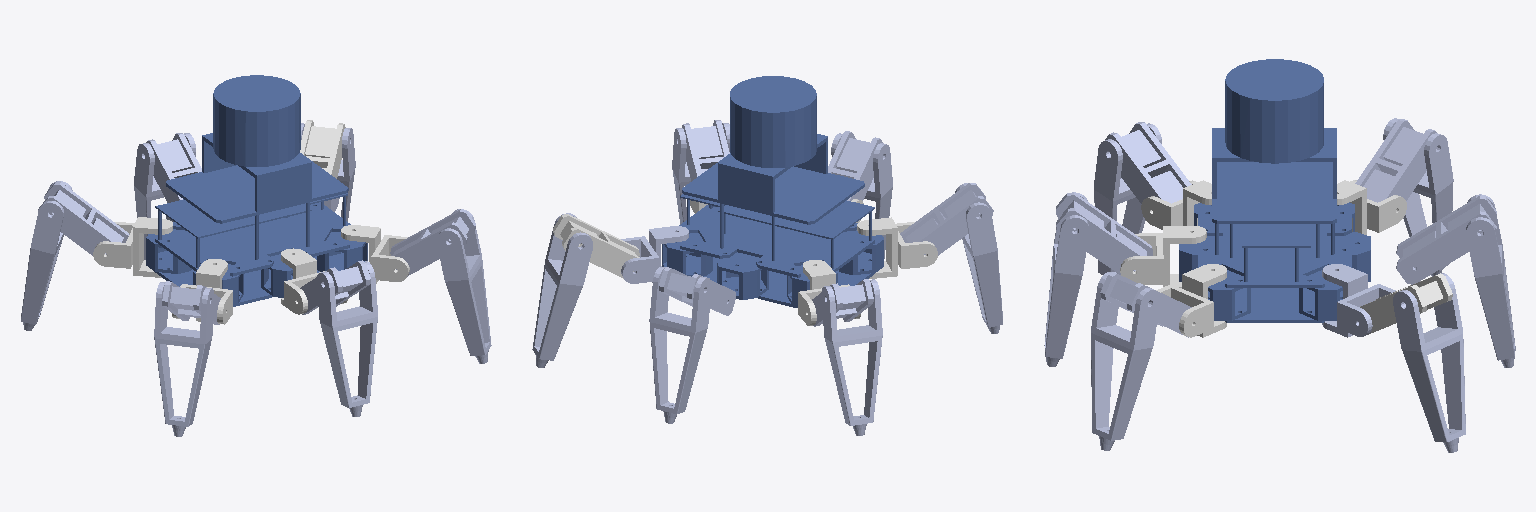
--- What the picture shows (computed from the rendered views, not written in the file) ---
Views: 3 orthographic renders of the robot side by side, from view 1: azimuth 30°, elevation 25°; view 2: azimuth 150°, elevation 25°; view 3: azimuth 270°, elevation 25°.
Robot: hexapod_haibot — 32 links, 31 joints (18 revolute, 13 fixed); root link base_link; default pose: all joints at 0.
Links seen in each view (by area): view 1: base_link, tibia_3, tibia_1, tibia_5, tibia_6, femur_6, coxa_6, femur_1, coxa_1, femur_4, femur_2, tibia_4 (+5 smaller); view 2: base_link, tibia_4, tibia_2, tibia_6, tibia_5, femur_5, coxa_5, femur_2, coxa_2, femur_3, femur_1, femur_4 (+4 smaller); view 3: base_link, tibia_2, tibia_1, tibia_4, tibia_3, femur_4, femur_6, femur_5, femur_3, tibia_6, tibia_5, coxa_2 (+6 smaller).
Boxes of the visible links, x1,y1,x2,y2 form: base_link: (146, 75, 367, 306); tibia_3: (317, 261, 377, 416); tibia_1: (437, 209, 491, 363); tibia_5: (154, 282, 213, 436); tibia_6: (21, 181, 72, 330); femur_6: (38, 182, 129, 255); coxa_6: (93, 217, 172, 277); femur_1: (390, 209, 475, 276); coxa_1: (341, 225, 409, 283); femur_4: (146, 133, 201, 202); femur_2: (300, 120, 345, 178); tibia_4: (134, 133, 195, 259); base_link: (662, 76, 883, 307); tibia_4: (649, 266, 711, 423); tibia_2: (532, 213, 592, 367); tibia_6: (821, 279, 882, 435); tibia_5: (955, 183, 1002, 333); femur_5: (900, 183, 993, 255); coxa_5: (857, 217, 937, 278); femur_2: (553, 214, 639, 278); coxa_2: (621, 226, 688, 283); femur_3: (828, 131, 882, 200); femur_1: (682, 120, 729, 181); femur_4: (659, 267, 735, 315); base_link: (1179, 59, 1370, 322); tibia_2: (1393, 273, 1465, 452); tibia_1: (1091, 272, 1159, 450); tibia_4: (1466, 194, 1515, 367); tibia_3: (1044, 192, 1088, 366); femur_4: (1396, 196, 1496, 284); femur_6: (1355, 119, 1436, 202); femur_5: (1105, 122, 1191, 203); femur_3: (1056, 192, 1152, 274); tibia_6: (1383, 118, 1453, 276); tibia_5: (1094, 123, 1161, 274); coxa_2: (1322, 264, 1395, 337).
Size in the robot's own frame: 0.453 by 0.4894 by 0.3304 metres.
18 mesh visuals loaded from 24 distinct referenced files (18 binary STL); not drawn: 6 (reference not matched to a file when rendering).

URDF robot description (hexapod_haibot):
<?xml version="1.0"?>
<!-- This URDF was automatically created by SolidWorks to URDF Exporter! Originally created by Stephen Brawner ([email redacted]) 
     Commit Version: 1.6.0-4-g7f85cfe  Build Version: 1.6.7995.38578
     For more information, please see http://wiki.ros.org/sw_urdf_exporter -->
<robot name="hexapod_haibot" xmlns:xacro="http://www.ros.org/wiki/xacro">

  <!-- MATERIAL PROPERTIES -->
  <gazebo reference="base_link">
    <material>Gazebo/DarkGrey</material>
  </gazebo>
  <gazebo reference="coxa_1">
    <material>Gazebo/FlatBlack</material>
  </gazebo>
  <gazebo reference="coxa_2">
    <material>Gazebo/FlatBlack</material>
  </gazebo>
  <gazebo reference="coxa_3">
    <material>Gazebo/FlatBlack</material>
  </gazebo>
  <gazebo reference="coxa_4">
    <material>Gazebo/FlatBlack</material>
  </gazebo>
  <gazebo reference="coxa_5">
    <material>Gazebo/FlatBlack</material>
  </gazebo>
  <gazebo reference="coxa_6">
    <material>Gazebo/FlatBlack</material>
  </gazebo>
  <gazebo reference="femur_1">
    <material>Gazebo/TurquoiseGlowOutline</material>
  </gazebo>
  <gazebo reference="femur_2">
    <material>Gazebo/TurquoiseGlowOutline</material>
  </gazebo>
  <gazebo reference="femur_3">
    <material>Gazebo/TurquoiseGlowOutline</material>
  </gazebo>
  <gazebo reference="femur_4">
    <material>Gazebo/TurquoiseGlowOutline</material>
  </gazebo>
  <gazebo reference="femur_5">
    <material>Gazebo/TurquoiseGlowOutline</material>
  </gazebo>
  <gazebo reference="femur_6">
    <material>Gazebo/TurquoiseGlowOutline</material>
  </gazebo>
  <gazebo reference="tibia_1">
    <material>Gazebo/FlatBlack</material>
  </gazebo>
  <gazebo reference="tibia_2">
    <material>Gazebo/FlatBlack</material>
  </gazebo>
  <gazebo reference="tibia_3">
    <material>Gazebo/FlatBlack</material>
  </gazebo>
  <gazebo reference="tibia_4">
    <material>Gazebo/FlatBlack</material>
  </gazebo>
  <gazebo reference="tibia_5">
    <material>Gazebo/FlatBlack</material>
  </gazebo>
  <gazebo reference="tibia_6">
    <material>Gazebo/FlatBlack</material>
  </gazebo>

  <!-- ############################################################################################################### -->
  <!-- ROBOT BASE -->
  <link name="base_link">
    <inertial>
      <origin
        xyz="-0.000235954357342191 7.54327648189342E-06 0.1227178717292"
        rpy="0 0 0" />
      <mass
        value="1.21169978454244" />
      <inertia
        ixx="0.00915831944870312"
        ixy="-7.10521119638147E-07"
        ixz="-8.84150170670591E-06"
        iyy="0.00979644782668004"
        iyz="1.97028180144695E-07"
        izz="0.00428132557153675" />
    </inertial>
    <visual>
      <origin
        xyz="0 0 0"
        rpy="0 0 0" />
      <geometry>
        <mesh
          filename="package://hexapod_haibot/meshes/base_link.STL" />
      </geometry>
      <material
        name="">
        <color
          rgba="0.4 0.5 0.7 1" />
      </material>
    </visual>
    <collision>
      <origin
        xyz="0 0 0"
        rpy="0 0 0" />
      <geometry>
        <mesh
          filename="package://hexapod_haibot/meshes/base_link.STL" />
      </geometry>
    </collision>
  </link>
  
  <!-- ############################################################################################################### -->
  <!-- LEG 1 -->
  <link name="coxa_1">
    <inertial>
      <origin
        xyz="0.0299971745393872 2.6370965719516E-06 0.022"
        rpy="0 0 0" />
      <mass
        value="0.0551210467328803" />
      <inertia
        ixx="3.53282132522675E-05"
        ixy="-4.36119640905737E-09"
        ixz="-1.19310926543601E-21"
        iyy="3.83050011945573E-05"
        iyz="-2.25289428125014E-21"
        izz="3.83009260758546E-05" />
    </inertial>
    <visual>
      <origin
        xyz="0 0 0"
        rpy="0 0 0" />
      <geometry>
        <mesh
          filename="package://hexapod_haibot/meshes/coxa_1.STL" />
      </geometry>
      <material
        name="">
        <color
          rgba="0.933333333333333 0.933333333333333 0.933333333333333 1" />
      </material>
    </visual>
    <collision>
      <origin
        xyz="0 0 0"
        rpy="0 0 0" />
      <geometry>
        <mesh
          filename="package://hexapod_haibot/meshes/coxa_1.STL" />
      </geometry>
    </collision>
  </link>

  <joint name="coxa_1_joint" type="revolute">
    <origin
      xyz="0.094347 -0.064347 0"
      rpy="0 0 -0.78008" />
    <parent
      link="base_link" />
    <child
      link="coxa_1" />
    <axis
      xyz="0 0 1" />
    <limit
      lower="-1.5708"
      upper="1.5708"
      effort="3"
      velocity="0.262" />
  </joint>

  <transmission name="coxa_transmission_1">
    <type>transmission_interface/SimpleTransmission</type>
    <joint name="coxa_1_joint">
      <hardwareInterface>hardware_interface/EffortJointInterface</hardwareInterface>
    </joint>
    <actuator name="coxa_motor_1">
      <hardwareInterface>hardware_interface/EffortJointInterface</hardwareInterface>
      <mechanicalReduction>1</mechanicalReduction>
    </actuator>
  </transmission>

  <link name="femur_1">
    <inertial>
      <origin
        xyz="0.0390038961416134 2.77555756156289E-17 -0.000127300882164495"
        rpy="0 0 0" />
      <mass
        value="0.101060221285622" />
      <inertia
        ixx="2.70779732387671E-05"
        ixy="-8.55503276726843E-20"
        ixz="7.62790212768512E-09"
        iyy="0.000113343849974385"
        iyz="2.31687189926496E-20"
        izz="9.72264920104687E-05" />
    </inertial>
    <visual>
      <origin
        xyz="0 0 0"
        rpy="0 0 0" />
      <geometry>
        <mesh
          filename="package://hexapod_haibot/meshes/femur_1.STL" />
      </geometry>
      <material
        name="">
        <color
          rgba="0.792156862745098 0.819607843137255 0.933333333333333 1" />
      </material>
    </visual>
    <collision>
      <origin
        xyz="0 0 0"
        rpy="0 0 0" />
      <geometry>
        <mesh
          filename="package://hexapod_haibot/meshes/femur_1.STL" />
      </geometry>
    </collision>
  </link>

  <joint name="femur_1_joint" type="revolute">
    <origin
      xyz="0.06 0 0.022"
      rpy="1.5708 -0.60765 0" />
    <parent
      link="coxa_1" />
    <child
      link="femur_1" />
    <axis
      xyz="0 0 1" />
    <limit
      lower="-1.5708"
      upper="1.5708"
      effort="3"
      velocity="0.262" />
  </joint>

  <transmission name="femur_transmission_1">
    <type>transmission_interface/SimpleTransmission</type>
    <joint name="femur_1_joint">
      <hardwareInterface>hardware_interface/EffortJointInterface</hardwareInterface>
    </joint>
    <actuator name="femur_motor_1">
      <hardwareInterface>hardware_interface/EffortJointInterface</hardwareInterface>
      <mechanicalReduction>1</mechanicalReduction>
    </actuator>
  </transmission>

  <link name="tibia_1">
    <inertial>
      <origin
        xyz="0.0647793877370392 1.67357076086283E-07 4.1140457842509E-08"
        rpy="0 0 0" />
      <mass
        value="0.079753578257712" />
      <inertia
        ixx="4.29473134297159E-05"
        ixy="-5.47973506938731E-10"
        ixz="1.27952682202404E-10"
        iyy="0.000201360752347867"
        iyz="-5.78595613282609E-11"
        izz="0.000168424442883887" />
    </inertial>
    <visual>
      <origin
        xyz="0 0 0"
        rpy="0 0 0" />
      <geometry>
        <mesh
          filename="package://hexapod_haibot/meshes/tibia_1.STL" />
      </geometry>
      <material
        name="">
        <color
          rgba="0.792156862745098 0.819607843137255 0.933333333333333 1" />
      </material>
    </visual>
    <collision>
      <origin
        xyz="0 0 0"
        rpy="0 0 0" />
      <geometry>
        <mesh
          filename="package://hexapod_haibot/meshes/tibia_1.STL" />
      </geometry>
    </collision>
  </link>

  <joint name="tibia_1_joint" type="revolute">
    <origin
      xyz="0.078299 0 0"
      rpy="0 0 -1.9765" />
    <parent
      link="femur_1" />
    <child
      link="tibia_1" />
    <axis
      xyz="0 0 1" />
    <limit
      lower="-1.5708"
      upper="1.5708"
      effort="3"
      velocity="0.262" />
  </joint>

  <transmission name="tibia_transmission_1">
    <type>transmission_interface/SimpleTransmission</type>
    <joint name="tibia_1_joint">
      <hardwareInterface>hardware_interface/EffortJointInterface</hardwareInterface>
    </joint>
    <actuator name="tibia_motor_1">
      <hardwareInterface>hardware_interface/EffortJointInterface</hardwareInterface>
      <mechanicalReduction>1</mechanicalReduction>
    </actuator>
  </transmission>

  <!-- ############################################################################################################### -->
  <!-- LEG 3 -->
  <link name="coxa_3">
    <inertial>
      <origin
        xyz="0.0299971745393872 2.63709657192558E-06 0.022"
        rpy="0 0 0" />
      <mass
        value="0.0551210467328803" />
      <inertia
        ixx="3.53282132522675E-05"
        ixy="-4.36119640902516E-09"
        ixz="2.69730911821053E-24"
        iyy="3.83050011945573E-05"
        iyz="2.06777561367272E-22"
        izz="3.83009260758546E-05" />
    </inertial>
    <visual>
      <origin
        xyz="0 0 0"
        rpy="0 0 0" />
      <geometry>
        <mesh
          filename="package://hexapod_haibot/meshes/coxa_3.STL" />
      </geometry>
      <material
        name="">
        <color
          rgba="0.933333333333333 0.933333333333333 0.933333333333333 1" />
      </material>
    </visual>
    <collision>
      <origin
        xyz="0 0 0"
        rpy="0 0 0" />
      <geometry>
        <mesh
          filename="package://hexapod_haibot/meshes/coxa_3.STL" />
      </geometry>
    </collision>
  </link>

  <joint name="coxa_3_joint" type="revolute">
    <origin
      xyz="0 -0.086 0"
      rpy="0 0 -1.5578" />
    <parent
      link="base_link" />
    <child
      link="coxa_3" />
    <axis
      xyz="0 0 1" />
    <limit
      lower="-1.5708"
      upper="1.5708"
      effort="3"
      velocity="0.262" />
  </joint>

  <transmission name="coxa_transmission_3">
    <type>transmission_interface/SimpleTransmission</type>
    <joint name="coxa_3_joint">
      <hardwareInterface>hardware_interface/EffortJointInterface</hardwareInterface>
    </joint>
    <actuator name="coxa_motor_3">
      <hardwareInterface>hardware_interface/EffortJointInterface</hardwareInterface>
      <mechanicalReduction>1</mechanicalReduction>
    </actuator>
  </transmission>

  <link name="femur_3">
    <inertial>
      <origin
        xyz="-0.0389961038583868 2.91433543964104E-16 -0.00012730088216462"
        rpy="0 0 0" />
      <mass
        value="0.101060221285622" />
      <inertia
        ixx="2.70779732387671E-05"
        ixy="-6.09863722023096E-20"
        ixz="7.62790212764231E-09"
        iyy="0.000113343849974385"
        iyz="-3.04459532260779E-21"
        izz="9.72264920104688E-05" />
    </inertial>
    <visual>
      <origin
        xyz="0 0 0"
        rpy="0 0 0" />
      <geometry>
        <mesh
          filename="package://hexapod_haibot/meshes/femur_3.STL" />
      </geometry>
      <material
        name="">
        <color
          rgba="0.792156862745098 0.819607843137255 0.933333333333333 1" />
      </material>
    </visual>
    <collision>
      <origin
        xyz="0 0 0"
        rpy="0 0 0" />
      <geometry>
        <mesh
          filename="package://hexapod_haibot/meshes/femur_3.STL" />
      </geometry>
    </collision>
  </link>

  <joint name="femur_3_joint" type="revolute">
    <origin
      xyz="0.06 0 0.022"
      rpy="1.5708 0.65437 -3.1416" />
    <parent
      link="coxa_3" />
    <child
      link="femur_3" />
    <axis
      xyz="0 0 1" />
    <limit
      lower="-1.5708"
      upper="1.5708"
      effort="3"
      velocity="0.262" />
  </joint>

  <transmission name="femur_transmission_3">
    <type>transmission_interface/SimpleTransmission</type>
    <joint name="femur_3_joint">
      <hardwareInterface>hardware_interface/EffortJointInterface</hardwareInterface>
    </joint>
    <actuator name="femur_motor_3">
      <hardwareInterface>hardware_interface/EffortJointInterface</hardwareInterface>
      <mechanicalReduction>1</mechanicalReduction>
    </actuator>
  </transmission>

  <link name="tibia_3">
    <inertial>
      <origin
        xyz="0.0647793402516186 1.63043285095199E-07 0.000500038719800597"
        rpy="0 0 0" />
      <mass
        value="0.0797534321360176" />
      <inertia
        ixx="4.29472906774755E-05"
        ixy="-4.35624446715095E-10"
        ixz="1.25207647802794E-10"
        iyy="0.000201360533986022"
        iyz="-6.29881027872907E-11"
        izz="0.000168424318950458" />
    </inertial>
    <visual>
      <origin
        xyz="0 0 0"
        rpy="0 0 0" />
      <geometry>
        <mesh
          filename="package://hexapod_haibot/meshes/tibia_3.STL" />
      </geometry>
      <material
        name="">
        <color
          rgba="0.792156862745098 0.819607843137255 0.933333333333333 1" />
      </material>
    </visual>
    <collision>
      <origin
        xyz="0 0 0"
        rpy="0 0 0" />
      <geometry>
        <mesh
          filename="package://hexapod_haibot/meshes/tibia_3.STL" />
      </geometry>
    </collision>
  </link>

  <joint name="tibia_3_joint" type="revolute">
    <origin
      xyz="-0.078 0 0"
      rpy="3.1416 0 -1.0584" />
    <parent
      link="femur_3" />
    <child
      link="tibia_3" />
    <axis
      xyz="0 0 1" />
    <limit
      lower="-1.5708"
      upper="1.5708"
      effort="3"
      velocity="0.262" />
  </joint>

  <transmission name="tibia_transmission_3">
    <type>transmission_interface/SimpleTransmission</type>
    <joint name="tibia_3_joint">
      <hardwareInterface>hardware_interface/EffortJointInterface</hardwareInterface>
    </joint>
    <actuator name="tibia_motor_3">
      <hardwareInterface>hardware_interface/EffortJointInterface</hardwareInterface>
      <mechanicalReduction>1</mechanicalReduction>
    </actuator>
  </transmission>

  <!-- ############################################################################################################### -->
  <!-- LEG 5 -->
  <link name="coxa_5">
    <inertial>
      <origin
        xyz="0.0299971745393872 2.63709657193079E-06 0.022"
        rpy="0 0 0" />
      <mass
        value="0.0551210467328803" />
      <inertia
        ixx="3.53282132522675E-05"
        ixy="-4.36119640903535E-09"
        ixz="1.80769437480616E-21"
        iyy="3.83050011945573E-05"
        iyz="-4.17794109547708E-22"
        izz="3.83009260758546E-05" />
    </inertial>
    <visual>
      <origin
        xyz="0 0 0"
        rpy="0 0 0" />
      <geometry>
        <mesh
          filename="package://hexapod_haibot/meshes/coxa_5.STL" />
      </geometry>
      <material
        name="">
        <color
          rgba="0.933333333333333 0.933333333333333 0.933333333333333 1" />
      </material>
    </visual>
    <collision>
      <origin
        xyz="0 0 0"
        rpy="0 0 0" />
      <geometry>
        <mesh
          filename="package://hexapod_haibot/meshes/coxa_5.STL" />
      </geometry>
    </collision>
  </link>

  <joint name="coxa_5_joint" type="revolute">
    <origin
      xyz="-0.094347 -0.064347 0"
      rpy="0 0 -2.382" />
    <parent
      link="base_link" />
    <child
      link="coxa_5" />
    <axis
      xyz="0 0 1" />
    <limit
      lower="-1.5708"
      upper="1.5708"
      effort="3"
      velocity="0.262" />
  </joint>

  <transmission name="coxa_transmission_5">
    <type>transmission_interface/SimpleTransmission</type>
    <joint name="coxa_5_joint">
      <hardwareInterface>hardware_interface/EffortJointInterface</hardwareInterface>
    </joint>
    <actuator name="coxa_motor_5">
      <hardwareInterface>hardware_interface/EffortJointInterface</hardwareInterface>
      <mechanicalReduction>1</mechanicalReduction>
    </actuator>
  </transmission>

  <link name="femur_5">
    <inertial>
      <origin
        xyz="-0.0389961038583868 2.63677968348475E-16 0.000372699117835631"
        rpy="0 0 0" />
      <mass
        value="0.101060221285622" />
      <inertia
        ixx="2.70779732387672E-05"
        ixy="-3.3881317890172E-20"
        ixz="7.62790212768477E-09"
        iyy="0.000113343849974385"
        iyz="-1.03828633151966E-20"
        izz="9.72264920104688E-05" />
    </inertial>
    <visual>
      <origin
        xyz="0 0 0"
        rpy="0 0 0" />
      <geometry>
        <mesh
          filename="package://hexapod_haibot/meshes/femur_5.STL" />
      </geometry>
      <material
        name="">
        <color
          rgba="0.792156862745098 0.819607843137255 0.933333333333333 1" />
      </material>
    </visual>
    <collision>
      <origin
        xyz="0 0 0"
        rpy="0 0 0" />
      <geometry>
        <mesh
          filename="package://hexapod_haibot/meshes/femur_5.STL" />
      </geometry>
    </collision>
  </link>

  <joint name="femur_5_joint" type="revolute">
    <origin
      xyz="0.06 0 0.022"
      rpy="1.5707963267949 0.593256092891378 -3.14159265358979" />
    <parent
      link="coxa_5" />
    <child
      link="femur_5" />
    <axis
      xyz="0 0 1" />
    <limit
      lower="-1.5708"
      upper="1.5708"
      effort="3"
      velocity="0.262" />
  </joint>

  <transmission name="femur_transmission_5">
    <type>transmission_interface/SimpleTransmission</type>
    <joint name="femur_5_joint">
      <hardwareInterface>hardware_interface/EffortJointInterface</hardwareInterface>
    </joint>
    <actuator name="femur_motor_5">
      <hardwareInterface>hardware_interface/EffortJointInterface</hardwareInterface>
      <mechanicalReduction>1</mechanicalReduction>
    </actuator>
  </transmission>

  <link name="tibia_5">
    <inertial>
      <origin
        xyz="0.064779381457328 1.66896180764375E-07 3.80265846762484E-08"
        rpy="0 0 0" />
      <mass
        value="0.0797535514364952" />
      <inertia
        ixx="4.29473122557609E-05"
        ixy="-5.2039318251951E-10"
        ixz="1.29346661267689E-10"
        iyy="0.000201360728465127"
        iyz="-5.8985320310437E-11"
        izz="0.000168424442624692" />
    </inertial>
    <visual>
      <origin
        xyz="0 0 0"
        rpy="0 0 0" />
      <geometry>
        <mesh
          filename="package://hexapod_haibot/meshes/tibia_5.STL" />
      </geometry>
      <material
        name="">
        <color
          rgba="0.792156862745098 0.819607843137255 0.933333333333333 1" />
      </material>
    </visual>
    <collision>
      <origin
        xyz="0 0 0"
        rpy="0 0 0" />
      <geometry>
        <mesh
          filename="package://hexapod_haibot/meshes/tibia_5.STL" />
      </geometry>
    </collision>
  </link>

  <joint name="tibia_5_joint" type="revolute">
    <origin
      xyz="-0.0779999999999999 0 0"
      rpy="-3.14159265358979 0 -1.13530201040703" />
    <parent
      link="femur_5" />
    <child
      link="tibia_5" />
    <axis
      xyz="0 0 1" />
    <limit
      lower="-1.5708"
      upper="1.5708"
      effort="3"
      velocity="0.262" />
  </joint>

  <transmission name="tibia_transmission_5">
    <type>transmission_interface/SimpleTransmission</type>
    <joint name="tibia_5_joint">
      <hardwareInterface>hardware_interface/EffortJointInterface</hardwareInterface>
    </joint>
    <actuator name="tibia_motor_5">
      <hardwareInterface>hardware_interface/EffortJointInterface</hardwareInterface>
      <mechanicalReduction>1</mechanicalReduction>
    </actuator>
  </transmission>

  <!-- ############################################################################################################### --> 
  <!-- LEG 2 -->
  <link name="coxa_2">
    <inertial>
      <origin
        xyz="0.0299971745393872 2.63709657193772E-06 0.022"
        rpy="0 0 0" />
      <mass
        value="0.0551210467328803" />
      <inertia
        ixx="3.53282132522675E-05"
        ixy="-4.36119640902688E-09"
        ixz="8.22308446706767E-21"
        iyy="3.83050011945573E-05"
        iyz="-5.3717856970772E-21"
        izz="3.83009260758546E-05" />
    </inertial>
    <visual>
      <origin
        xyz="0 0 0"
        rpy="0 0 0" />
      <geometry>
        <mesh
          filename="package://hexapod_haibot/meshes/coxa_2.STL" />
      </geometry>
      <material
        name="">
        <color
          rgba="0.792156862745098 0.819607843137255 0.933333333333333 1" />
      </material>
    </visual>
    <collision>
      <origin
        xyz="0 0 0"
        rpy="0 0 0" />
      <geometry>
        <mesh
          filename="package://hexapod_haibot/meshes/coxa_2.STL" />
      </geometry>
    </collision>
  </link>

  <joint name="coxa_2_joint" type="revolute">
    <origin
      xyz="0.094347 0.064347 0"
      rpy="0 0 0.80623" />
    <parent
      link="base_link" />
    <child
      link="coxa_2" />
    <axis
      xyz="0 0 1" />
    <limit
      lower="-1.5708"
      upper="1.5708"
      effort="3"
      velocity="0.262" />
  </joint>

  <transmission name="coxa_transmission_2">
    <type>transmission_interface/SimpleTransmission</type>
    <joint name="coxa_2_joint">
      <hardwareInterface>hardware_interface/EffortJointInterface</hardwareInterface>
    </joint>
    <actuator name="coxa_motor_2">
      <hardwareInterface>hardware_interface/EffortJointInterface</hardwareInterface>
      <mechanicalReduction>1</mechanicalReduction>
    </actuator>
  </transmission>

  <link name="femur_2">
    <inertial>
      <origin
        xyz="0.0390038961416136 2.08166817117217E-16 0.000372699117835697"
        rpy="0 0 0" />
      <mass
        value="0.101060221285622" />
      <inertia
        ixx="2.70779732387671E-05"
        ixy="2.5410988417629E-20"
        ixz="7.62790212764919E-09"
        iyy="0.000113343849974385"
        iyz="-8.02520653875577E-21"
        izz="9.72264920104688E-05" />
    </inertial>
    <visual>
      <origin
        xyz="0 0 0"
        rpy="0 0 0" />
      <geometry>
        <mesh
          filename="package://hexapod_haibot/meshes/femur_2.STL" />
      </geometry>
      <material
        name="">
        <color
          rgba="0.933333333333333 0.933333333333333 0.933333333333333 1" />
      </material>
    </visual>
    <collision>
      <origin
        xyz="0 0 0"
        rpy="0 0 0" />
      <geometry>
        <mesh
          filename="package://hexapod_haibot/meshes/femur_2.STL" />
      </geometry>
    </collision>
  </link>

  <joint name="femur_2_joint" type="revolute">
    <origin
      xyz="0.06 0 0.022"
      rpy="-1.5707963267949 -0.570757388235316 0" />
    <parent
      link="coxa_2" />
    <child
      link="femur_2" />
    <axis
      xyz="0 0 1" />
    <limit
      lower="-1.5708"
      upper="1.5708"
      effort="3"
      velocity="0.262" />
  </joint>

  <transmission name="femur_transmission_2">
    <type>transmission_interface/SimpleTransmission</type>
    <joint name="femur_2_joint">
      <hardwareInterface>hardware_interface/EffortJointInterface</hardwareInterface>
    </joint>
    <actuator name="femur_motor_2">
      <hardwareInterface>hardware_interface/EffortJointInterface</hardwareInterface>
      <mechanicalReduction>1</mechanicalReduction>
    </actuator>
  </transmission>

  <link name="tibia_2">
    <inertial>
      <origin
        xyz="0.064779231371056 1.52274239939576E-07 2.12012769632008E-08"
        rpy="0 0 0" />
      <mass
        value="0.0797532028820055" />
      <inertia
        ixx="4.29472740175955E-05"
        ixy="-2.26598724123957E-10"
        ixz="1.75883824016018E-10"
        iyy="0.000201359999099"
        iyz="-5.69751259621584E-11"
        izz="0.00016842391204068" />
    </inertial>
    <visual>
      <origin
        xyz="0 0 0"
        rpy="0 0 0" />
      <geometry>
        <mesh
          filename="package://hexapod_haibot/meshes/tibia_2.STL" />
      </geometry>
      <material
        name="">
        <color
          rgba="0.792156862745098 0.819607843137255 0.933333333333333 1" />
      </material>
    </visual>
    <collision>
      <origin
        xyz="0 0 0"
        rpy="0 0 0" />
      <geometry>
        <mesh
          filename="package://hexapod_haibot/meshes/tibia_2.STL" />
      </geometry>
    </collision>
  </link>

  <joint name="tibia_2_joint" type="revolute">
    <origin
      xyz="0.0782991733331755 0 0"
      rpy="0 0 1.89648504438712" />
    <parent
      link="femur_2" />
    <child
      link="tibia_2" />
    <axis
      xyz="0 0 1" />
    <limit
      lower="-1.5708"
      upper="1.5708"
      effort="3"
      velocity="0.262" />
  </joint>

  <transmission name="tibia_transmission_2">
    <type>transmission_interface/SimpleTransmission</type>
    <joint name="tibia_2_joint">
      <hardwareInterface>hardware_interface/EffortJointInterface</hardwareInterface>
    </joint>
    <actuator name="tibia_motor_2">
      <hardwareInterface>hardware_interface/EffortJointInterface</hardwareInterface>
      <mechanicalReduction>1</mechanicalReduction>
    </actuator>
  </transmission>

  <!-- ############################################################################################################### -->
  <!-- LEG 4 -->
  <link name="coxa_4">
    <inertial>
      <origin
        xyz="0.0299971745393872 2.63709657194119E-06 0.022"
        rpy="0 0 0" />
      <mass
        value="0.0551210467328803" />
      <inertia
        ixx="3.53282132522675E-05"
        ixy="-4.36119640900794E-09"
        ixz="-4.47192022000883E-21"
        iyy="3.83050011945573E-05"
        iyz="5.74775956109057E-22"
        izz="3.83009260758547E-05" />
    </inertial>
    <visual>
      <origin
        xyz="0 0 0"
        rpy="0 0 0" />
      <geometry>
        <mesh
          filename="package://hexapod_haibot/meshes/coxa_4.STL" />
      </geometry>
      <material
        name="">
        <color
          rgba="0.933333333333333 0.933333333333333 0.933333333333333 1" />
      </material>
    </visual>
    <collision>
      <origin
        xyz="0 0 0"
        rpy="0 0 0" />
      <geometry>
        <mesh
          filename="package://hexapod_haibot/meshes/coxa_4.STL" />
      </geometry>
    </collision>
  </link>

  <joint name="coxa_4_joint" type="revolute">
    <origin
      xyz="0 0.086 0"
      rpy="0 0 1.5689" />
    <parent
      link="base_link" />
    <child
      link="coxa_4" />
    <axis
      xyz="0 0 1" />
    <limit
      lower="-1.5708"
      upper="1.5708"
      effort="3"
      velocity="0.262" />
  </joint>

  <transmission name="coxa_transmission_4">
    <type>transmission_interface/SimpleTransmission</type>
    <joint name="coxa_4_joint">
      <hardwareInterface>hardware_interface/EffortJointInterface</hardwareInterface>
    </joint>
    <actuator name="coxa_motor_4">
      <hardwareInterface>hardware_interface/EffortJointInterface</hardwareInterface>
      <mechanicalReduction>1</mechanicalReduction>
    </actuator>
  </transmission>

  <link name="femur_4">
    <inertial>
      <origin
        xyz="-0.0389961038583868 6.93889390390723E-18 0.000372699117835451"
        rpy="0 0 0" />
      <mass
        value="0.101060221285622" />
      <inertia
        ixx="2.70779732387671E-05"
        ixy="-7.19978005166155E-20"
        ixz="7.62790212765141E-09"
        iyy="0.000113343849974385"
        iyz="-3.48342269862745E-22"
        izz="9.72264920104686E-05" />
    </inertial>
    <visual>
      <origin
        xyz="0 0 0"
        rpy="0 0 0" />
      <geometry>
        <mesh
          filename="package://hexapod_haibot/meshes/femur_4.STL" />
      </geometry>
      <material
        name="">
        <color
          rgba="0.792156862745098 0.819607843137255 0.933333333333333 1" />
      </material>
    </visual>
    <collision>
      <origin
        xyz="0 0 0"
        rpy="0 0 0" />
      <geometry>
        <mesh
          filename="package://hexapod_haibot/meshes/femur_4.STL" />
      </geometry>
    </collision>
  </link>

  <joint name="femur_4_joint" type="revolute">
    <origin
      xyz="0.06 0 0.022"
      rpy="1.5707963267949 0.5837559928844 -3.14159265358979" />
    <parent
      link="coxa_4" />
    <child
      link="femur_4" />
    <axis
      xyz="0 0 1" />
    <limit
      lower="-1.5708"
      upper="1.5708"
      effort="3"
      velocity="0.262" />
  </joint>

  <transmission name="femur_transmission_4">
    <type>transmission_interface/SimpleTransmission</type>
    <joint name="femur_4_joint">
      <hardwareInterface>hardware_interface/EffortJointInterface</hardwareInterface>
    </joint>
    <actuator name="femur_motor_4">
      <hardwareInterface>hardware_interface/EffortJointInterface</hardwareInterface>
      <mechanicalReduction>1</mechanicalReduction>
    </actuator>
  </transmission>

  <link name="tibia_4">
    <inertial>
      <origin
        xyz="0.0647793120469972 1.61127922004844E-07 3.42567992661711E-08"
        rpy="0 0 0" />
      <mass
        value="0.07975336132891" />
      <inertia
        ixx="4.29472859486317E-05"
        ixy="-3.70486815918369E-10"
        ixz="1.35541564555372E-10"
        iyy="0.000201360398778229"
        iyz="-6.22672928706743E-11"
        izz="0.000168424231028227" />
    </inertial>
    <visual>
      <origin
        xyz="0 0 0"
        rpy="0 0 0" />
      <geometry>
        <mesh
          filename="package://hexapod_haibot/meshes/tibia_4.STL" />
      </geometry>
      <material
        name="">
        <color
          rgba="0.792156862745098 0.819607843137255 0.933333333333333 1" />
      </material>
    </visual>
    <collision>
      <origin
        xyz="0 0 0"
        rpy="0 0 0" />
      <geometry>
        <mesh
          filename="package://hexapod_haibot/meshes/tibia_4.STL" />
      </geometry>
    </collision>
  </link>

  <joint name="tibia_4_joint" type="revolute">
    <origin
      xyz="-0.0811639254473974 0 0"
      rpy="0 0 -1.16162210028502" />
    <parent
      link="femur_4" />
    <child
      link="tibia_4" />
    <axis
      xyz="0 0 1" />
    <limit
      lower="-1.5708"
      upper="1.5708"
      effort="3"
      velocity="0.262" />
  </joint>

  <transmission name="tibia_transmission_4">
    <type>transmission_interface/SimpleTransmission</type>
    <joint name="tibia_4_joint">
      <hardwareInterface>hardware_interface/EffortJointInterface</hardwareInterface>
    </joint>
    <actuator name="tibia_motor_4">
      <hardwareInterface>hardware_interface/EffortJointInterface</hardwareInterface>
      <mechanicalReduction>1</mechanicalReduction>
    </actuator>
  </transmission>

  <!-- ############################################################################################################### -->
  <!-- LEG 6 -->
  <link name="coxa_6">
    <inertial>
      <origin
        xyz="0.0299971745393872 2.63709657190303E-06 0.022"
        rpy="0 0 0" />
      <mass
        value="0.0551210467328803" />
      <inertia
        ixx="3.53282132522675E-05"
        ixy="-4.36119640899131E-09"
        ixz="-7.71993193239305E-22"
        iyy="3.83050011945573E-05"
        iyz="-1.78962730252462E-21"
        izz="3.83009260758547E-05" />
    </inertial>
    <visual>
      <origin
        xyz="0 0 0"
        rpy="0 0 0" />
      <geometry>
        <mesh
          filename="package://hexapod_haibot/meshes/coxa_6.STL" />
      </geometry>
      <material
        name="">
        <color
          rgba="0.933333333333333 0.933333333333333 0.933333333333333 1" />
      </material>
    </visual>
    <collision>
      <origin
        xyz="0 0 0"
        rpy="0 0 0" />
      <geometry>
        <mesh
          filename="package://hexapod_haibot/meshes/coxa_6.STL" />
      </geometry>
    </collision>
  </link>

  <joint name="coxa_6_joint" type="revolute">
    <origin
      xyz="-0.0943467170879763 0.064346717087976 0"
      rpy="0 0 2.4295431200388" />
    <parent
      link="base_link" />
    <child
      link="coxa_6" />
    <axis
      xyz="0 0 1" />
    <limit
      lower="-1.5708"
      upper="1.5708"
      effort="3"
      velocity="0.262" />
  </joint>

  <transmission name="coxa_transmission_6">
    <type>transmission_interface/SimpleTransmission</type>
    <joint name="coxa_6_joint">
      <hardwareInterface>hardware_interface/EffortJointInterface</hardwareInterface>
    </joint>
    <actuator name="coxa_motor_6">
      <hardwareInterface>hardware_interface/EffortJointInterface</hardwareInterface>
      <mechanicalReduction>1</mechanicalReduction>
    </actuator>
  </transmission>

  <link name="femur_6">
    <inertial>
      <origin
        xyz="-0.0389961038583869 3.7470027081099E-16 0.00037269911783608"
        rpy="0 0 0" />
      <mass
        value="0.101060221285622" />
      <inertia
        ixx="2.70779732387671E-05"
        ixy="7.03037346221069E-20"
        ixz="7.6279021276603E-09"
        iyy="0.000113343849974385"
        iyz="2.24421274376376E-21"
        izz="9.72264920104687E-05" />
    </inertial>
    <visual>
      <origin
        xyz="0 0 0"
        rpy="0 0 0" />
      <geometry>
        <mesh
          filename="package://hexapod_haibot/meshes/femur_6.STL" />
      </geometry>
      <material
        name="">
        <color
          rgba="0.792156862745098 0.819607843137255 0.933333333333333 1" />
      </material>
    </visual>
    <collision>
      <origin
        xyz="0 0 0"
        rpy="0 0 0" />
      <geometry>
        <mesh
          filename="package://hexapod_haibot/meshes/femur_6.STL" />
      </geometry>
    </collision>
  </link>

  <joint name="femur_6_joint" type="revolute">
    <origin
      xyz="0.06 0 0.022"
      rpy="1.5707963267949 0.626103382784505 -3.14159265358979" />
    <parent
      link="coxa_6" />
    <child
      link="femur_6" />
    <axis
      xyz="0 0 1" />
    <limit
      lower="-1.5708"
      upper="1.5708"
      effort="3"
      velocity="0.262" />
  </joint>

  <transmission name="femur_transmission_6">
    <type>transmission_interface/SimpleTransmission</type>
    <joint name="femur_6_joint">
      <hardwareInterface>hardware_interface/EffortJointInterface</hardwareInterface>
    </joint>
    <actuator name="femur_motor_6">
      <hardwareInterface>hardware_interface/EffortJointInterface</hardwareInterface>
      <mechanicalReduction>1</mechanicalReduction>
    </actuator>
  </transmission>

  <link name="tibia_6">
    <inertial>
      <origin
        xyz="0.0647792452262229 1.53521399037793E-07 0.00050002469269308"
        rpy="0 0 0" />
      <mass
        value="0.0797532266116497" />
      <inertia
        ixx="4.29472765643027E-05"
        ixy="-2.45111381582697E-10"
        ixz="1.64681151050093E-10"
        iyy="0.000201360069597061"
        iyz="-5.85587638797844E-11"
        izz="0.000168423974316692" />
    </inertial>
    <visual>
      <origin
        xyz="0 0 0"
        rpy="0 0 0" />
      <geometry>
        <mesh
          filename="package://hexapod_haibot/meshes/tibia_6.STL" />
      </geometry>
      <material
        name="">
        <color
          rgba="0.792156862745098 0.819607843137255 0.933333333333333 1" />
      </material>
    </visual>
    <collision>
      <origin
        xyz="0 0 0"
        rpy="0 0 0" />
      <geometry>
        <mesh
          filename="package://hexapod_haibot/meshes/tibia_6.STL" />
      </geometry>
    </collision>
  </link>

  <joint name="tibia_6_joint" type="revolute">
    <origin
      xyz="-0.0811639254473975 0 0"
      rpy="0 0 -1.14255285693864" />
    <parent
      link="femur_6" />
    <child
      link="tibia_6" />
    <axis
      xyz="0 0 1" />
    <limit
      lower="-1.5708"
      upper="1.5708"
      effort="3"
      velocity="0.262" />
  </joint>

  <transmission name="tibia_transmission_6">
    <type>transmission_interface/SimpleTransmission</type>
    <joint name="tibia_6_joint">
      <hardwareInterface>hardware_interface/EffortJointInterface</hardwareInterface>
    </joint>
    <actuator name="tibia_motor_6">
      <hardwareInterface>hardware_interface/EffortJointInterface</hardwareInterface>
      <mechanicalReduction>1</mechanicalReduction>
    </actuator>
  </transmission>

  <!-- ############################################################################################################### -->
  <!-- VLP-16 -->
  <joint name="VLP_mount_joint" type="fixed">
    <origin
      xyz="0 0 0.16"
      rpy="0 0 0" />
    <parent link="base_link"/>
    <child link="VLP_mount"/>
  </joint>

  <link name="VLP_mount">
    <inertial>
      <mass value="0.01"/>
      <origin xyz="0 0 0"/>
      <inertia
          ixx="1.0" ixy="0.0"  ixz="0.0"
          iyy="1.0" iyz="0.0"
          izz="1.0" />
    </inertial>
    <visual>
      <geometry>
        <mesh filename="package://hexapod_haibot/meshes/sensors/VLP16_base_1.dae" />
      </geometry>
    </visual>
    <visual>
      <geometry>
        <mesh filename="package://hexapod_haibot/meshes/sensors/VLP16_base_2.dae" />
      </geometry>
    </visual>
    <collision>
      <origin rpy="0 0 0" xyz="0 0 0"/>
      <geometry>
        <cylinder radius="0.0516" length="0.0717"/>
      </geometry>
    </collision>
  </link>

  <joint name="VLP_joint" type="fixed" >
    <origin xyz="0 0 0.01" rpy="0 0 0" />
    <parent link="VLP_mount" />
    <child link="velodyne"/>
  </joint>

  <link name="velodyne">
    <inertial>
      <mass value="0.01"/>
      <origin xyz="0 0 0"/>
      <inertia ixx="1e-7" ixy="0" ixz="0" iyy="1e-7" iyz="0" izz="1e-7"/>
    </inertial>
    <visual>
      <origin xyz="0 0 0" />
      <geometry>
        <mesh filename="package://hexapod_haibot/meshes/sensors/VLP16_scan.dae" />
      </geometry>
    </visual>
  </link>

  <!-- Gazebo requires the velodyne_gazebo_plugins package -->
  <gazebo reference="velodyne">
    <!-- type: {ray | gpu_ray} -->
      <sensor type="ray" name="velodyne_16"> 
        <pose>0 0 0 0 0 0</pose>
        <visualize>false</visualize>
        <update_rate>10</update_rate>
        <ray>
          <scan>
            <horizontal>
              <samples>60</samples>
              <resolution>1</resolution>
              <min_angle>-3.1415926535897931</min_angle>
              <max_angle>3.1415926535897931</max_angle>
            </horizontal>
            <vertical>
              <samples>3</samples>
              <resolution>1</resolution>
              <min_angle>-0.261799388</min_angle>
              <max_angle>0.261799388</max_angle>
            </vertical>
          </scan>
          <range>
            <min>0.3</min>
            <max>131.0</max>
            <resolution>0.001</resolution>
          </range>
          <noise>
            <type>gaussian</type>
            <mean>0.0</mean>
            <stddev>0.0</stddev>
          </noise>
        </ray>
        <!-- filename="libgazebo_ros_velodyne_gpu_laser.so" -->
        <plugin name="gazebo_ros_laser_controller" filename="libgazebo_ros_velodyne_laser.so">
          <topicName>velodyne_points</topicName>
          <frameName>base_link</frameName>
          <min_range>0.3</min_range>
          <max_range>130.0</max_range>
          <gaussianNoise>0.008</gaussianNoise>
        </plugin>
      </sensor>
  </gazebo>

  <!-- ############################################################################################################### -->
  <!-- IMU -->
  <joint name="imu_joint" type="fixed">
    <parent link="base_link"/>
    <child link="imu_link"/>
    <origin xyz="-0.0254 0.02032 0.048" rpy="1.570796327 0 0"/>
  </joint>

  <link name="imu_link">
    <inertial>
      <mass value="0.01"/>
      <origin xyz="0 0 0"/>
      <inertia ixx="1e-7" ixy="0" ixz="0" iyy="1e-7" iyz="0" izz="1e-7"/>
    </inertial>
    <visual>
      <origin xyz="0 0 0" />
      <geometry>
        <mesh filename="package://hexapod_haibot/meshes/sensors/imu.stl" scale="0.002 0.002 0.002"/>
      </geometry>
    </visual>
  </link>

  <gazebo reference="imu_link">
    <gravity>true</gravity>
    <material>Gazebo/Grass</material>
    <sensor name="imu_sensor" type="imu">
      <always_on>true</always_on>
      <update_rate>100</update_rate>
      <visualize>true</visualize>
      <topic>__default_topic__</topic>
      <plugin filename="libgazebo_ros_imu_sensor.so" name="imu_plugin">
        <topicName>imu</topicName>
        <serviceName>imu_service</serviceName>
        <bodyName>imu_link</bodyName>
        <updateRateHZ>10.0</updateRateHZ>
        <gaussianNoise>0.0</gaussianNoise>
        <xyzOffset>0 0 0</xyzOffset>
        <rpyOffset>0 0 0</rpyOffset>
        <frameName>imu_link</frameName>
        <imu>
          <noise>
            <type>gaussian</type>
            <rate>
              <mean>0.0</mean>
              <stddev>2e-4</stddev>
              <bias_mean>0.0000075</bias_mean>
              <bias_stddev>0.0000008</bias_stddev>
            </rate>
            <accel>
              <mean>0.0</mean>
              <stddev>1.7e-2</stddev>
              <bias_mean>0.1</bias_mean>
              <bias_stddev>0.001</bias_stddev>
            </accel>
          </noise>
        </imu>
      </plugin>
      <pose>0 0 0 0 0 0</pose>
    </sensor>
  </gazebo>

  <!-- ############################################################################################################### -->
  <!-- REALSENSE -->
  <joint name="realsense_joint" type="fixed">
    <origin xyz="0.09 0.0125 0.1075" rpy="1.570796327 0 0"/>
    <parent link="base_link"/>
    <child link="realsense_bottom_screw_frame" />
  </joint>

  <link name="realsense_bottom_screw_frame"/>

  <joint name="realsense_link_joint" type="fixed">
    <origin xyz="0 0.0125 0.0125" rpy="0 0 0"/>
    <parent link="realsense_bottom_screw_frame"/>
    <child link="realsense_link" />
  </joint>

  <link name="realsense_link">
    <visual>
    <origin xyz="0 0 0" rpy="0 1.570796327 0"/>
      <geometry>
        <mesh filename="package://hexapod_haibot/meshes/sensors/realsense.stl" />
      </geometry>
    </visual>
    <collision>
      <origin xyz="0 0 0" rpy="0 1.570796327 0"/>
      <geometry>
        <mesh filename="package://hexapod_haibot/meshes/sensors/realsense.stl" />
      </geometry>
    </collision>
    <inertial>
      <!-- <mass value="0.564" /> -->
      <mass value="0.01" />
      <origin xyz="0 1.570796327 0" />
      <inertia ixx="0.0003881243" ixy="0.0" ixz="0.0" iyy="0.0000498940" iyz="0.0" izz="0.0003879257" />
    </inertial>
  </link>
 
  <!-- camera depth joints and links -->
  <joint name="realsense_depth_joint" type="fixed">
    <origin xyz="0 0 0" rpy="0 0 0"/>
    <parent link="realsense_link"/>
    <child link="realsense_depth_frame" />
  </joint>

  <link name="realsense_depth_frame"/>

  <joint name="realsense_depth_optical_joint" type="fixed">
    <origin xyz="0 0 0" rpy="-1.570796327 0 -1.570796327" />
    <parent link="realsense_depth_frame" />
    <child link="realsense_depth_optical_frame" />
  </joint>

  <link name="realsense_depth_optical_frame"/>
    
  <!-- camera left IR joints and links -->
  <joint name="realsense_left_ir_joint" type="fixed">
    <origin xyz="0 0.0 0" rpy="0 0 0" />
    <parent link="realsense_depth_frame" />
    <child link="realsense_left_ir_frame" />
  </joint>

  <link name="realsense_left_ir_frame"/>

  <joint name="realsense_left_ir_optical_joint" type="fixed">
    <origin xyz="0 0 0" rpy="-1.570796327 0 -1.570796327" />
    <parent link="realsense_left_ir_frame" />
    <child link="realsense_left_ir_optical_frame" />
  </joint>

  <link name="realsense_left_ir_optical_frame"/>

  <!-- camera right IR joints and links -->
  <joint name="realsense_right_ir_joint" type="fixed">
    <origin xyz="0 -0.05 0" rpy="0 0 0" />
    <parent link="realsense_depth_frame" />
    <child link="realsense_right_ir_frame" />
  </joint>

  <link name="realsense_right_ir_frame"/>

  <joint name="realsense_right_ir_optical_joint" type="fixed">
    <origin xyz="0 0 0" rpy="-1.570796327 0 -1.570796327" />
    <parent link="realsense_right_ir_frame" />
    <child link="realsense_right_ir_optical_frame" />
  </joint>

  <link name="realsense_right_ir_optical_frame"/>

  <!-- camera color joints and links -->
  <joint name="realsense_color_joint" type="fixed">
    <origin xyz="0 0.015 0" rpy="0 0 0" />
    <parent link="realsense_depth_frame" />
    <child link="realsense_color_frame" />
  </joint>

  <link name="realsense_color_frame"/>

  <joint name="realsense_color_optical_joint" type="fixed">
    <origin xyz="0 0 0" rpy="-1.570796327 0 -1.570796327" />
    <parent link="realsense_color_frame" />
    <child link="realsense_color_optical_frame" />
  </joint>
  
  <link name="realsense_color_optical_frame"/>

  <gazebo reference="realsense_link">
    <self_collide>0</self_collide>
    <enable_wind>0</enable_wind>
    <kinematic>0</kinematic>
    <gravity>1</gravity>
    <material>Gazebo/Grey</material>
    <!--<mu>1</mu>-->
    <mu2>1</mu2>
    <fdir1>0 0 0</fdir1>
    <!--<slip1>0</slip1>
    <slip2>0</slip2>-->
    <kp>1e+13</kp>
    <kd>1</kd>
    <!--<max_vel>0.01</max_vel>
    <min_depth>0</min_depth>-->
    <sensor name="realsense_color" type="camera">
      <camera name="realsense">
        <horizontal_fov>1.211258501</horizontal_fov>
        <image>
          <width>640</width>
          <height>480</height>
          <format>RGB_INT8</format>
        </image>
        <clip>
          <near>0.1</near>
          <far>100</far>
        </clip>
        <noise>
          <type>gaussian</type>
          <mean>0.0</mean>
          <stddev>0.007</stddev>
        </noise>
      </camera>
      <always_on>1</always_on>
      <update_rate>30</update_rate>
      <visualize>0</visualize>
    </sensor>
    
    <sensor name="realsense_ired1" type="camera">
      <camera name="realsense">
        <horizontal_fov>1.487020523</horizontal_fov>
        <image>
          <width>1280</width>
          <height>720</height>
          <format>L_INT8</format>
        </image>
        <clip>
          <near>0.1</near>
          <far>100</far>
        </clip>
        <noise>
          <type>gaussian</type>
          <mean>0.0</mean>
          <stddev>0.05</stddev>
        </noise>
      </camera>
      <always_on>1</always_on>
      <update_rate>90</update_rate>
      <visualize>0</visualize>
    </sensor>

    <sensor name="realsense_ired2" type="camera">
      <camera name="realsense">
        <horizontal_fov>1.487020523</horizontal_fov>
        <image>
          <width>1280</width>
          <height>720</height>
          <format>L_INT8</format>
        </image>
        <clip>
          <near>0.1</near>
          <far>100</far>
        </clip>
        <noise>
          <type>gaussian</type>
          <mean>0.0</mean>
          <stddev>0.05</stddev>
        </noise>
      </camera>
      <always_on>1</always_on>
      <update_rate>90</update_rate>
      <visualize>0</visualize>
    </sensor>

    <sensor name="realsense_depth" type="depth">
      <camera name="realsense">
        <horizontal_fov>1.487020523</horizontal_fov>
        <image>
          <width>1280</width>
          <height>720</height>
        </image>
        <clip>
          <near>0.1</near>
          <far>100</far>
        </clip>
        <noise>
          <type>gaussian</type>
          <mean>0.0</mean>
          <stddev>0.100</stddev>
        </noise>
      </camera>
      <always_on>1</always_on>
      <update_rate>90</update_rate>
      <visualize>0</visualize>
    </sensor>
  </gazebo>

  <gazebo>
    <plugin name="realsense" filename="librealsense_gazebo_plugin.so">
      <prefix>realsense</prefix>
      <depthUpdateRate>30.0</depthUpdateRate>
      <colorUpdateRate>30.0</colorUpdateRate>
      <infraredUpdateRate>30.0</infraredUpdateRate>
      <depthTopicName>depth/image_raw</depthTopicName>
      <depthCameraInfoTopicName>depth/camera_info</depthCameraInfoTopicName>
      <colorTopicName>color/image_raw</colorTopicName>
      <colorCameraInfoTopicName>color/camera_info</colorCameraInfoTopicName>
      <infrared1TopicName>infra1/image_raw</infrared1TopicName>
      <infrared1CameraInfoTopicName>infra1/camera_info</infrared1CameraInfoTopicName>
      <infrared2TopicName>infra2/image_raw</infrared2TopicName>
      <infrared2CameraInfoTopicName>infra2/camera_info</infrared2CameraInfoTopicName>
      <colorOpticalframeName>realsense_color_optical_frame</colorOpticalframeName>
      <depthOpticalframeName>realsense_depth_optical_frame</depthOpticalframeName>
      <infrared1OpticalframeName>realsense_left_ir_frame</infrared1OpticalframeName>
      <infrared2OpticalframeName>realsense_right_ir_frame</infrared2OpticalframeName>
      <rangeMinDepth>0.2</rangeMinDepth>
      <rangeMaxDepth>10.0</rangeMaxDepth>
      <pointCloud>true</pointCloud>
      <pointCloudTopicName>depth/color/points</pointCloudTopicName>
      <pointCloudCutoff>0.25</pointCloudCutoff>
      <pointCloudCutoffMax>9.0</pointCloudCutoffMax>
    </plugin>
  </gazebo>

  <!-- ############################################################################################################### -->
  <!-- GAZEBO PLUGIN -->
  <gazebo>
    <plugin filename="libgazebo_ros_control.so" name="gazebo_ros_control">
      <robotNamespace>/hexa_haibot</robotNamespace>
    </plugin>
  </gazebo>

</robot>
